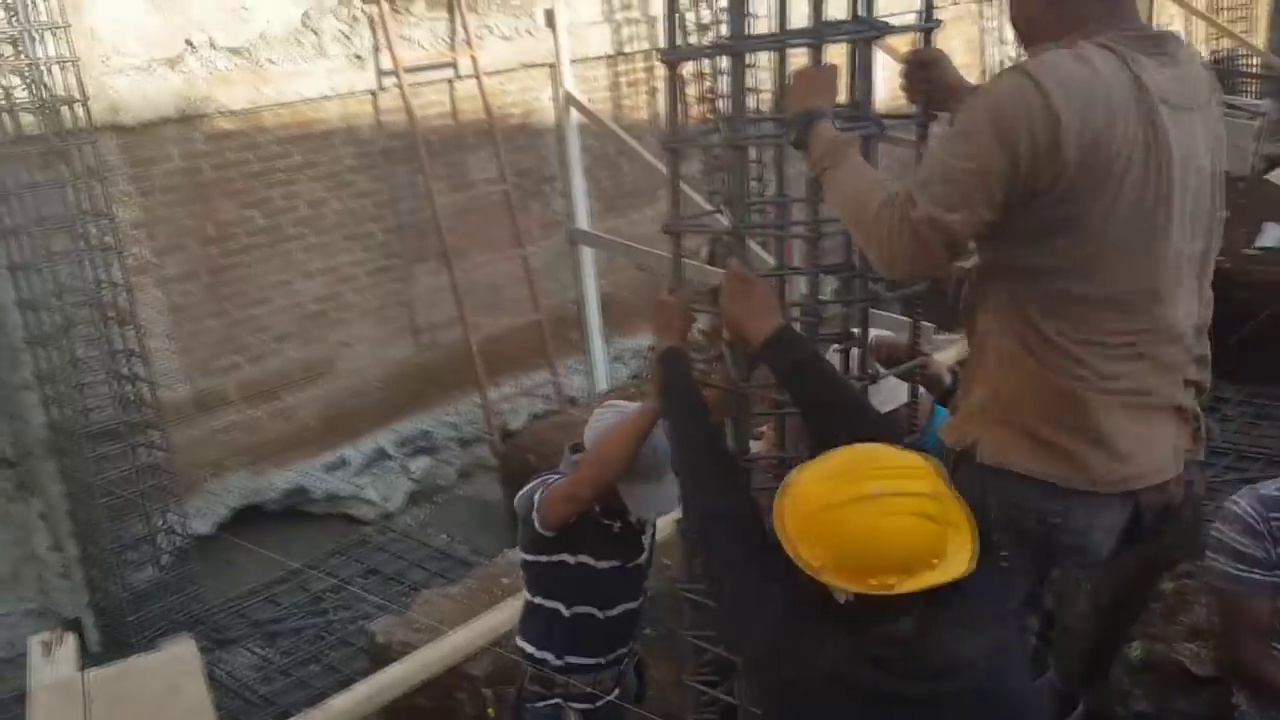helmet: (771, 437, 979, 598)
helmet-off: (566, 398, 685, 531)
person: (784, 4, 1218, 719), (651, 270, 1053, 717), (512, 350, 680, 719)
